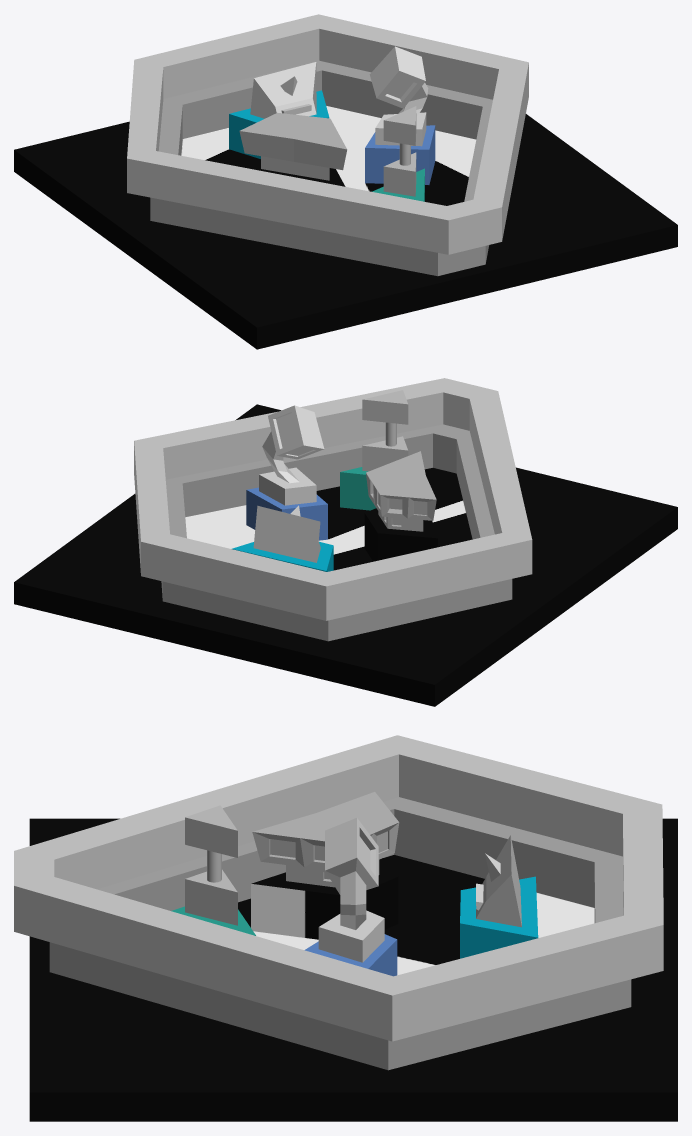
Rendered from level3_1.fbx.
The picture shows the model from 3 angles, top to bottom: view 1: azimuth 30°, elevation 25°; view 2: azimuth 150°, elevation 25°; view 3: azimuth 270°, elevation 25°; orthographic projection. The views are drawn at different scales.
Visible parts, largest first — view 1: Plane, Cube.009, Cube, Cube.004, Cube.002, Cube.003, Cube.001, Cube.007, Cube.006; view 2: Plane, Cube.009, Cube, Cube.002, Cube.004, Cube.003, Cube.001, Cube.005, Cube.007, Cube.008, Cube.006; view 3: Cube.009, Plane, Cube, Cube.002, Cube.004, Cube.005, Cube.001, Cube.006, Cube.003, Cube.007.
Boxes of the visible parts, x1=… form: Plane: x1=14, y1=106, x2=677, y2=349; Cube.009: x1=127, y1=14, x2=528, y2=254; Cube: x1=150, y1=60, x2=492, y2=276; Cube.004: x1=239, y1=112, x2=347, y2=180; Cube.002: x1=369, y1=46, x2=428, y2=146; Cube.003: x1=250, y1=62, x2=316, y2=118; Cube.001: x1=383, y1=106, x2=416, y2=196; Cube.007: x1=365, y1=125, x2=435, y2=184; Cube.006: x1=229, y1=90, x2=329, y2=158; Plane: x1=14, y1=404, x2=677, y2=706; Cube.009: x1=134, y1=378, x2=532, y2=620; Cube: x1=161, y1=424, x2=512, y2=641; Cube.002: x1=259, y1=405, x2=324, y2=505; Cube.004: x1=366, y1=451, x2=436, y2=531; Cube.003: x1=253, y1=505, x2=320, y2=562; Cube.001: x1=362, y1=390, x2=408, y2=471; Cube.005: x1=364, y1=508, x2=437, y2=561; Cube.007: x1=246, y1=487, x2=327, y2=540; Cube.008: x1=340, y1=467, x2=375, y2=510; Cube.006: x1=232, y1=541, x2=333, y2=571; Cube.009: x1=14, y1=735, x2=663, y2=1041; Plane: x1=29, y1=818, x2=677, y2=1121; Cube: x1=49, y1=797, x2=631, y2=1070; Cube.002: x1=318, y1=818, x2=384, y2=962; Cube.004: x1=252, y1=792, x2=399, y2=887; Cube.005: x1=251, y1=858, x2=398, y2=939; Cube.001: x1=185, y1=805, x2=237, y2=925; Cube.006: x1=460, y1=876, x2=538, y2=958; Cube.003: x1=476, y1=835, x2=521, y2=927; Cube.007: x1=304, y1=934, x2=397, y2=976.
Size of the model in its own units: 20 by 6.8 by 20.49.
Materials: 11 (2 with a texture image).
